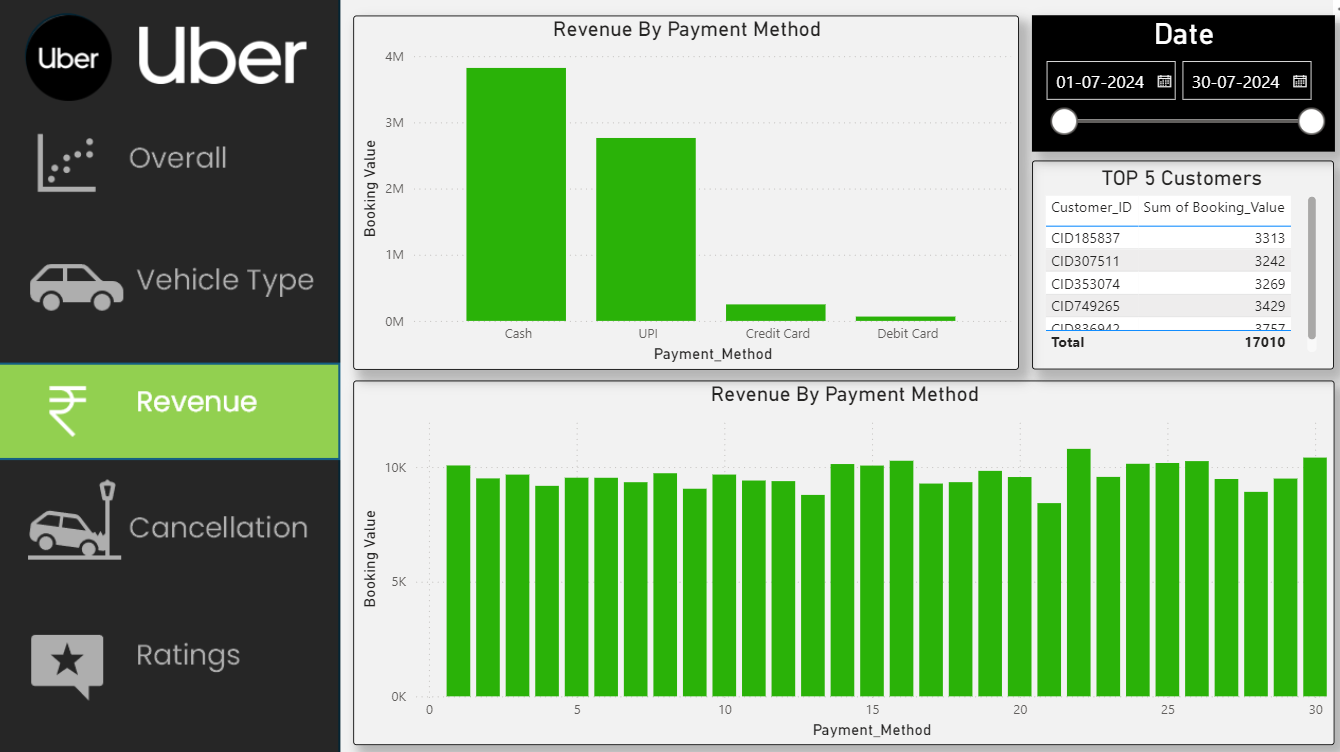

Layout of this report page (visuals, bound fields, positions):
{"tool":"powerbi","page":{"name":"Revenue","canvas":[1280,720],"ordinal":2},"visuals":[{"type":"image","box":[0,0,1280,719.5],"z":0},{"type":"actionButton","box":[12.8,577.6,317.9,97.9],"z":1000},{"type":"actionButton","box":[12.8,456.9,317.9,97.9],"z":2000},{"type":"actionButton","box":[12.8,227.1,317.9,97.9],"z":3000},{"type":"actionButton","box":[12.8,112.1,317.9,97.9],"z":4000},{"type":"columnChart","title":"Revenue By Payment Method","fields":{"Y":["Sum(July.Booking_Value)"],"Category":["July.Payment_Method"]},"box":[340.8,20.8,619.2,329.7],"z":5000},{"type":"columnChart","title":"Revenue By Payment Method","fields":{"Y":["Sum(July.Ride_Distance)"],"Category":["July.Date.Variation.Date Hierarchy.Day"]},"box":[340.8,360.2,912.9,339.4],"z":6000},{"type":"slicer","title":"Date","fields":{"Values":["July.Date"]},"box":[972.5,20.8,281.2,126.1],"z":7000},{"type":"tableEx","title":"TOP 5 Customers","fields":{"Values":["July.Customer_ID","Sum(July.Booking_Value)"]},"box":[971.9,155.8,281.1,194.7],"z":8000}]}

Visuals, with their boxes in screenshot pixels (x1, y1, x2, y2), scaled from the page's 1280x720 canvas onto the 1340x752 screenshot:
image: bbox=(0, 0, 1339, 751)
actionButton: bbox=(13, 603, 346, 706)
actionButton: bbox=(13, 477, 346, 579)
actionButton: bbox=(13, 237, 346, 339)
actionButton: bbox=(13, 117, 346, 219)
"Revenue By Payment Method" columnChart: bbox=(357, 22, 1005, 366)
"Revenue By Payment Method" columnChart: bbox=(357, 376, 1312, 731)
"Date" slicer: bbox=(1018, 22, 1312, 153)
"TOP 5 Customers" tableEx: bbox=(1017, 163, 1312, 366)
